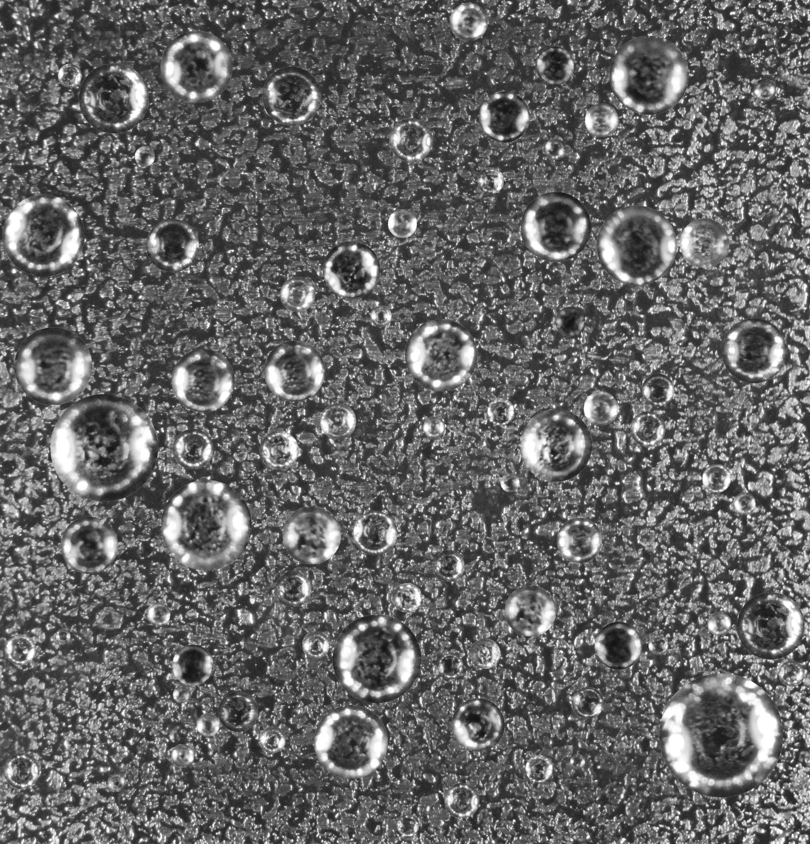Bubble: (659, 673, 783, 797), (50, 394, 157, 501), (161, 480, 251, 570), (332, 614, 421, 703), (2, 194, 84, 276), (596, 205, 676, 285), (609, 35, 688, 114), (14, 327, 91, 404), (314, 705, 387, 778), (519, 409, 592, 481), (405, 319, 477, 391), (160, 30, 232, 102), (78, 63, 148, 133), (520, 191, 590, 261), (737, 592, 804, 659), (721, 318, 786, 383), (171, 349, 234, 412), (264, 340, 324, 401), (262, 66, 321, 125), (282, 506, 340, 564), (60, 516, 117, 573), (323, 241, 380, 298), (451, 698, 504, 751), (146, 219, 199, 272), (504, 585, 556, 636), (479, 91, 529, 142), (680, 218, 729, 267), (594, 622, 642, 669), (556, 517, 602, 563), (353, 511, 397, 555), (389, 118, 432, 161), (172, 644, 213, 685), (172, 428, 213, 469), (218, 692, 257, 731), (535, 46, 574, 84), (259, 431, 298, 469), (449, 2, 487, 40), (275, 571, 311, 607), (320, 403, 356, 439), (3, 753, 39, 788), (444, 783, 479, 818), (280, 276, 315, 311), (630, 411, 665, 446), (583, 391, 617, 425), (585, 103, 618, 136), (642, 373, 674, 406), (572, 687, 603, 718), (4, 634, 35, 665), (433, 550, 464, 581), (470, 638, 500, 668), (555, 306, 584, 336), (392, 583, 421, 612), (702, 464, 731, 492), (388, 209, 416, 237), (525, 755, 552, 782), (258, 726, 285, 753), (302, 631, 329, 658), (487, 398, 514, 425), (778, 660, 804, 686), (477, 167, 503, 193), (437, 653, 463, 679), (146, 602, 170, 626), (58, 63, 81, 87), (707, 612, 731, 635), (753, 78, 776, 101), (196, 713, 219, 736), (171, 744, 194, 767), (396, 814, 419, 836), (733, 492, 755, 515), (423, 416, 444, 438), (370, 305, 391, 326), (544, 138, 565, 159), (648, 635, 668, 655), (134, 146, 154, 166), (500, 473, 519, 492), (107, 774, 125, 792), (172, 686, 189, 703), (55, 628, 70, 643), (570, 754, 585, 769), (606, 150, 615, 159)
